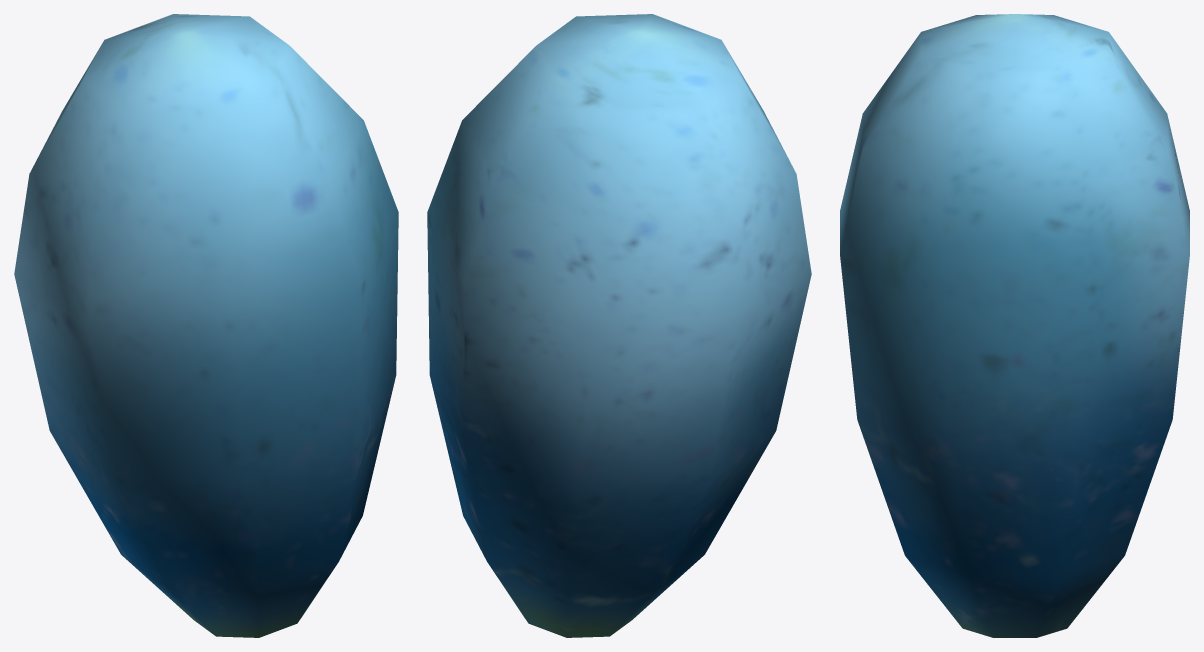
The model's file is Sce_Aquarium_Hawaii01_SeaAnemone15_c.FBX.
The picture shows the model from 3 angles, left to right: view 1: azimuth 30°, elevation 25°; view 2: azimuth 150°, elevation 25°; view 3: azimuth 270°, elevation 25°; orthographic projection. The views are drawn at different scales.
Parts seen in each view (by area): view 1: Sce_Aquarium_Hawaii01_SeaAnemone15_c; view 2: Sce_Aquarium_Hawaii01_SeaAnemone15_c; view 3: Sce_Aquarium_Hawaii01_SeaAnemone15_c.
Boxes of the visible parts, box(x1,y1,x2,y2) form: Sce_Aquarium_Hawaii01_SeaAnemone15_c: box(14, 14, 398, 637); Sce_Aquarium_Hawaii01_SeaAnemone15_c: box(427, 14, 811, 637); Sce_Aquarium_Hawaii01_SeaAnemone15_c: box(840, 14, 1189, 637).
Size of the model in its own units: 0.311 by 0.5801 by 0.3123.
